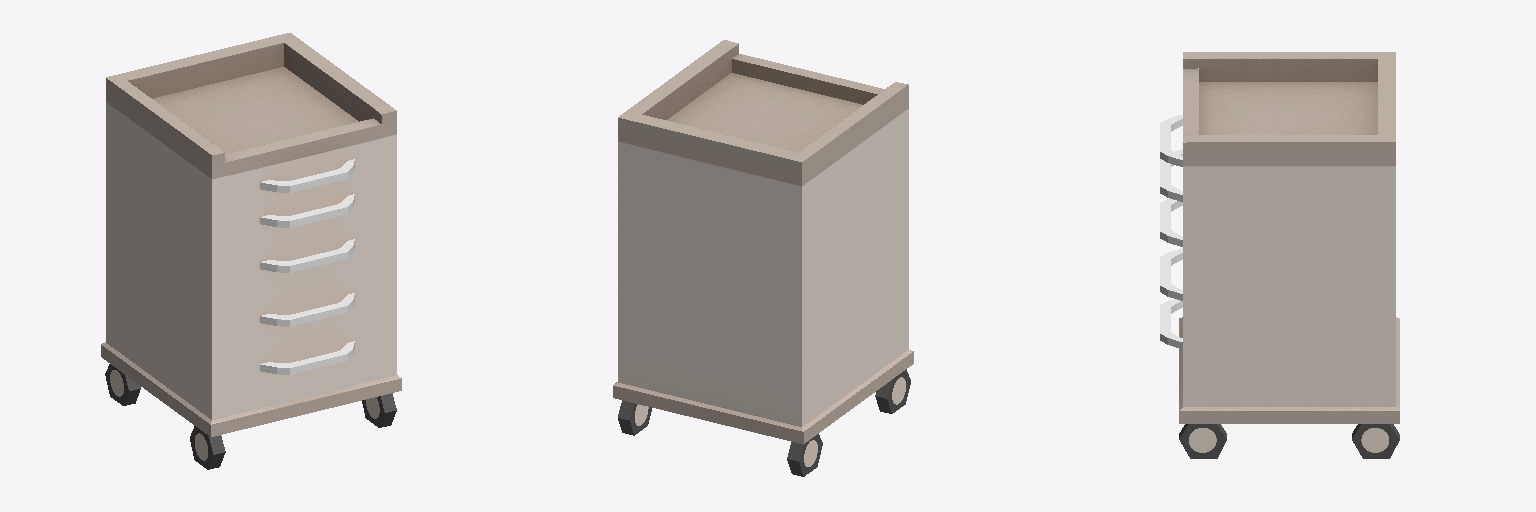
3 renders of one model, left to right at view 1: azimuth 30°, elevation 25°; view 2: azimuth 150°, elevation 25°; view 3: azimuth 270°, elevation 25°, orthographic.
Parts seen in each view (by area): view 1: Cube.006, Cube.000; view 2: Cube.006, Cube.000; view 3: Cube.006, Cube.000.
Part boxes in pixels (x1,y1,x2,y2): Cube.006: (101,33,401,436); Cube.000: (105,364,396,469); Cube.006: (613,40,913,444); Cube.000: (618,369,910,476); Cube.006: (1160,52,1399,423); Cube.000: (1179,424,1399,458).
Bounding box in the file's own units: 2.07 × 3.28 × 2.25.
Materials: 2 (2 with a texture image).